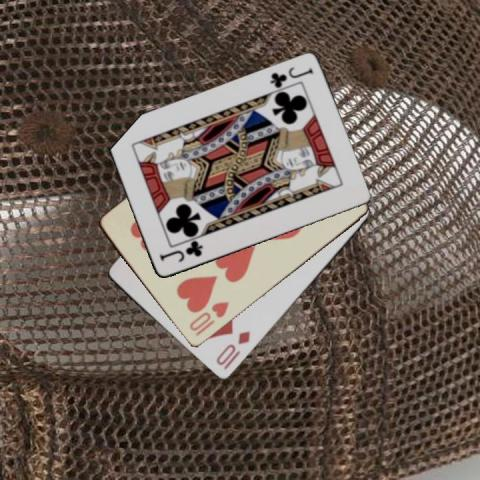10d: (213, 328, 252, 367)
10h: (186, 299, 231, 338)
Jc: (266, 64, 314, 90), (157, 239, 204, 264)
